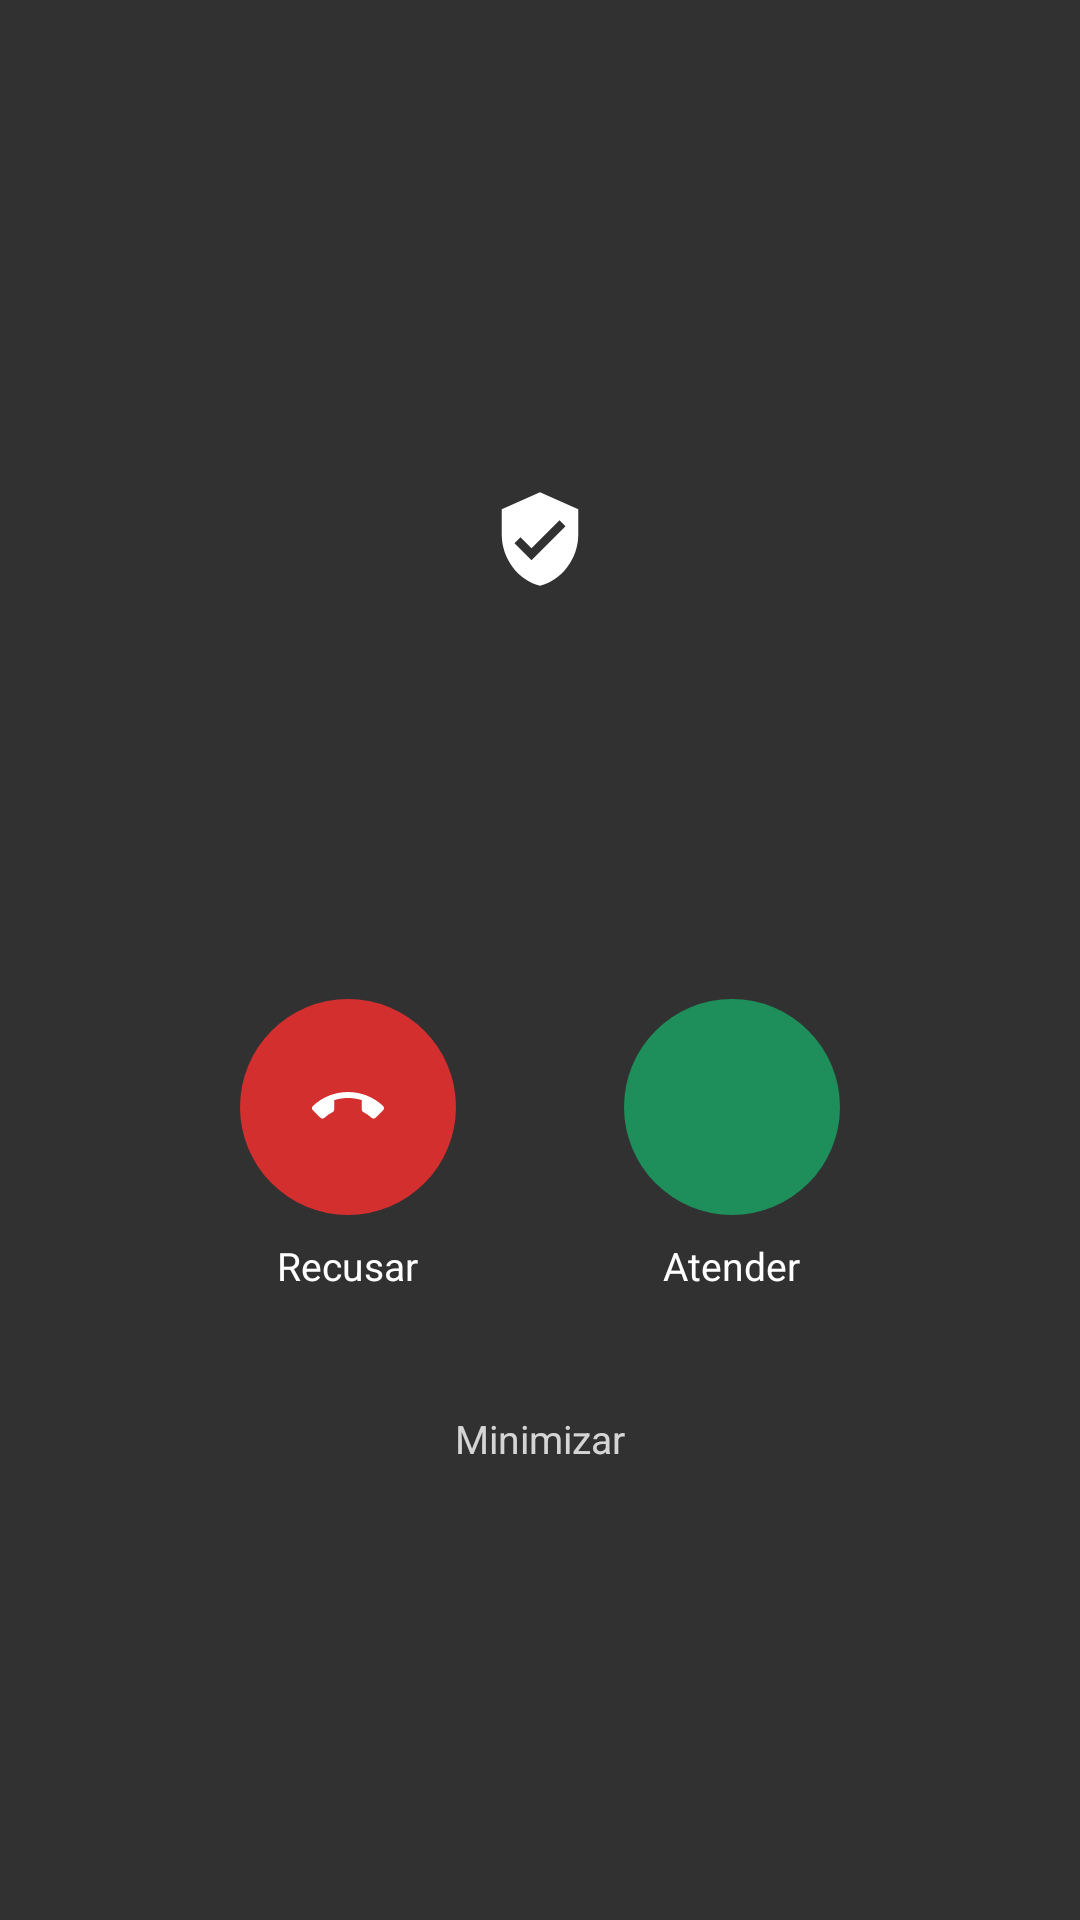

Screen size 1080 x 1920. Icon name, then its box in pixels as (x1, y1, x2, y2):
shield: (501, 492, 579, 586)
